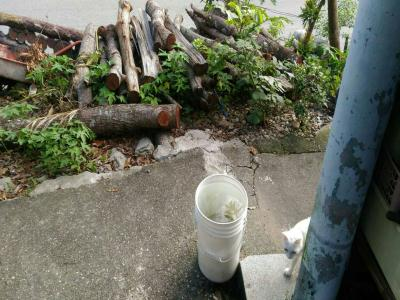bucket: (190, 171, 253, 287)
